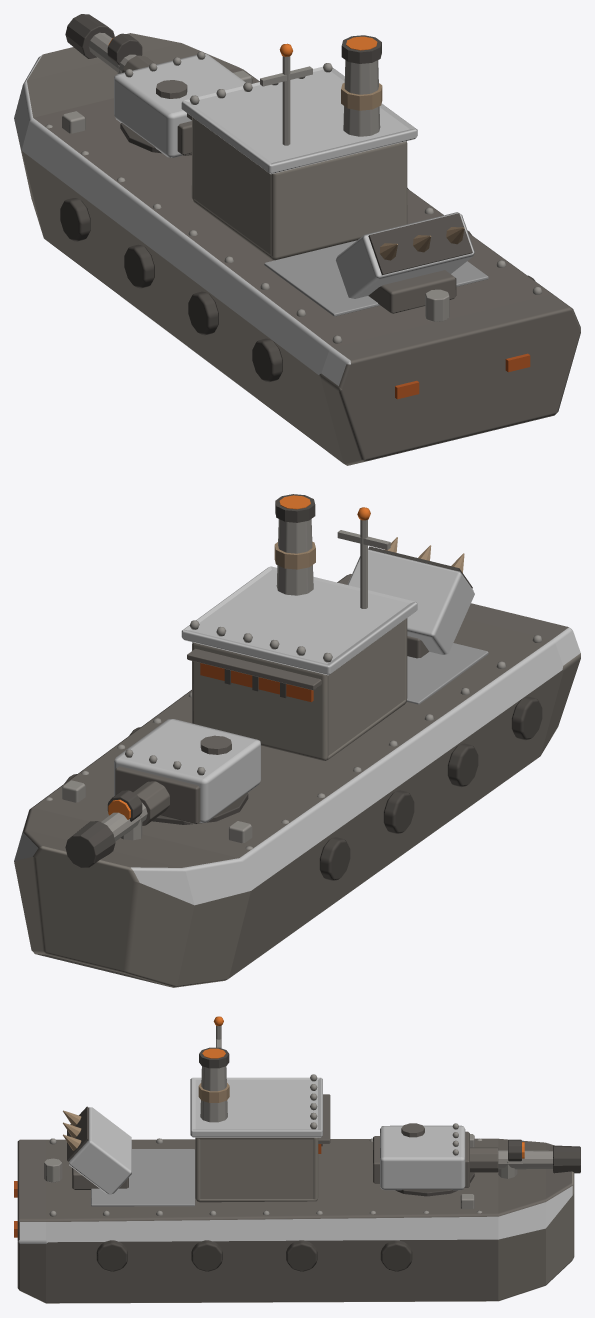
Rendered from crucible_patrol_boat.glb.
The picture shows the model from 3 angles, top to bottom: view 1: azimuth 30°, elevation 25°; view 2: azimuth 150°, elevation 25°; view 3: azimuth 270°, elevation 25°; orthographic projection. The views are drawn at different scales.
Parts seen in each view (by area): view 1: Body, Turret; view 2: Body, Turret; view 3: Body, Turret.
Boxes of the visible parts, x1,y1,x2,y2 form: Body: (14,33,580,465); Turret: (65,14,245,157); Body: (14,494,580,987); Turret: (65,719,261,867); Body: (14,1016,574,1303); Turret: (373,1123,580,1196).
Size of the model in its own units: 0.98 by 1.11 by 2.39.
